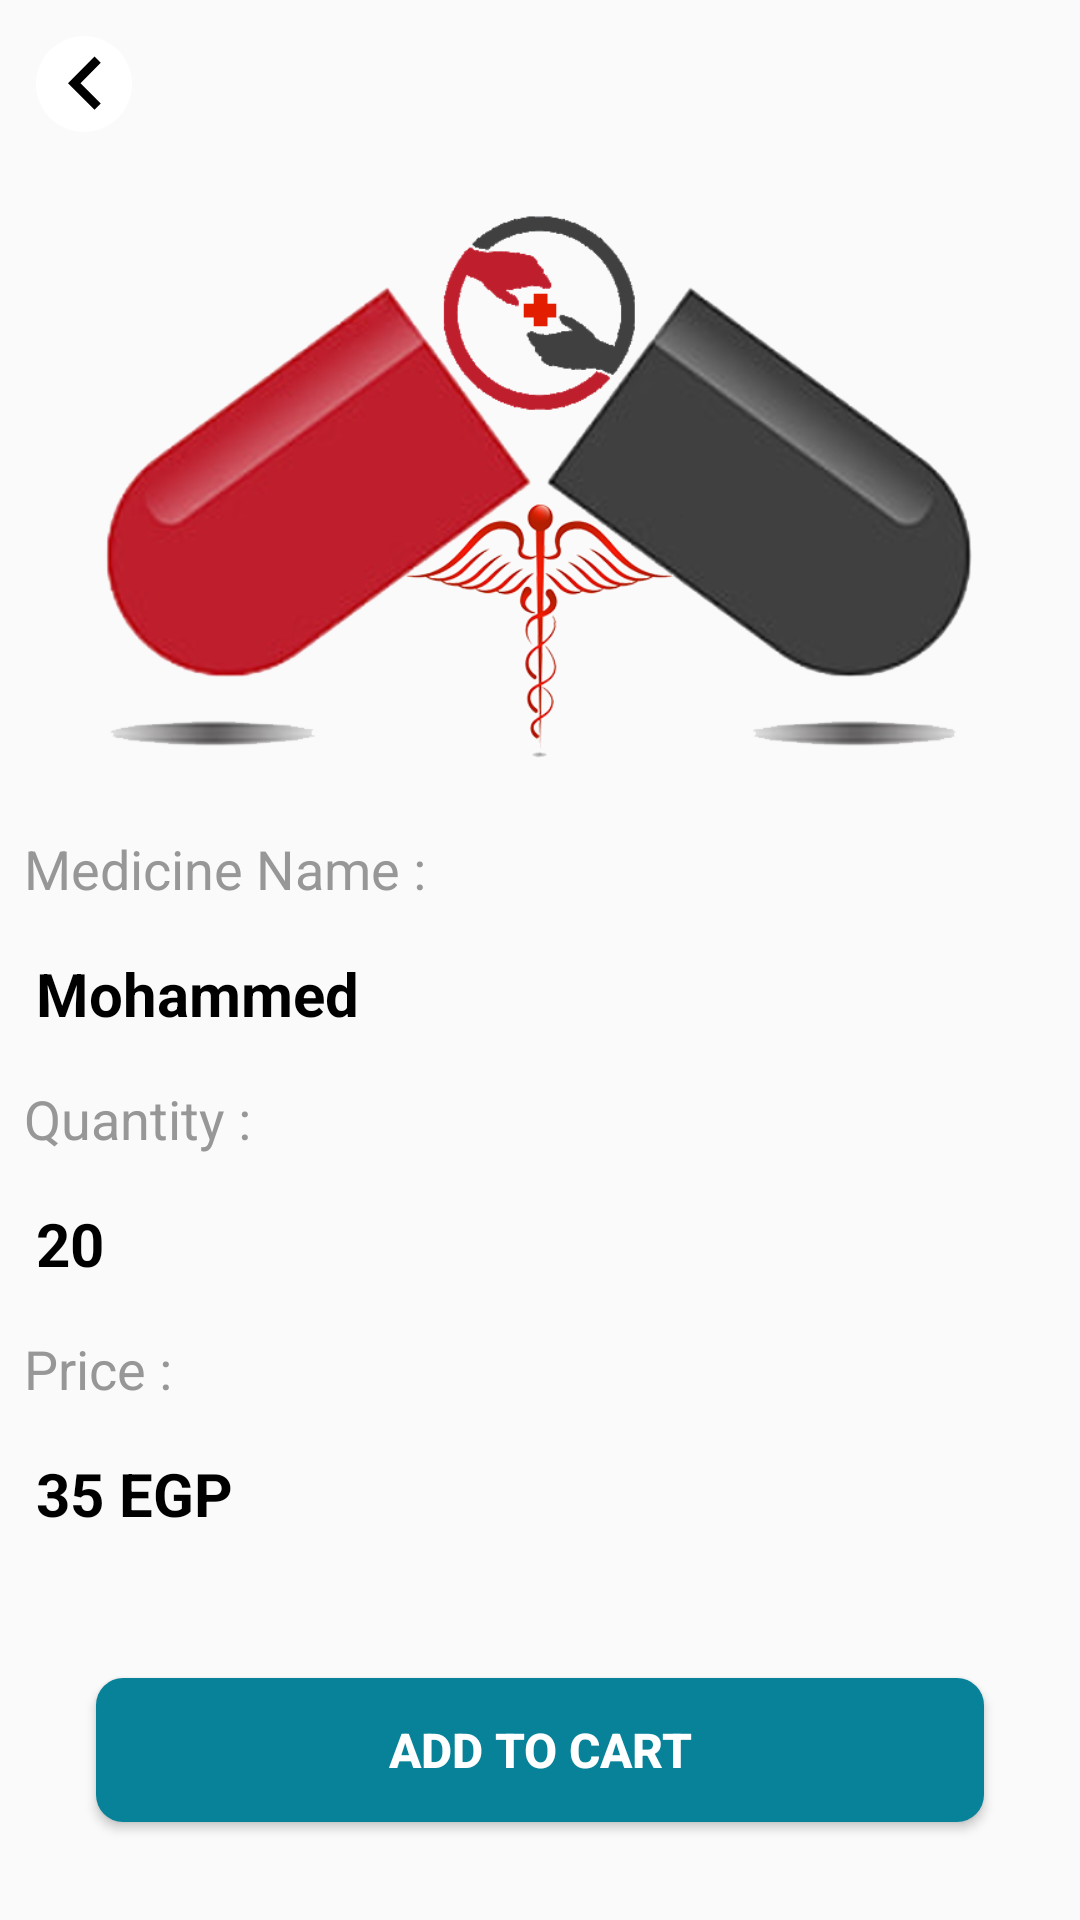

Where to tap for icons on this 1080px×1920px app screen, as point (x, y):
back: point (84, 83)
